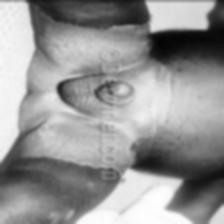Toxin: (40, 15, 150, 46), (132, 55, 172, 135), (20, 84, 60, 158), (67, 113, 97, 166), (40, 46, 88, 77)
